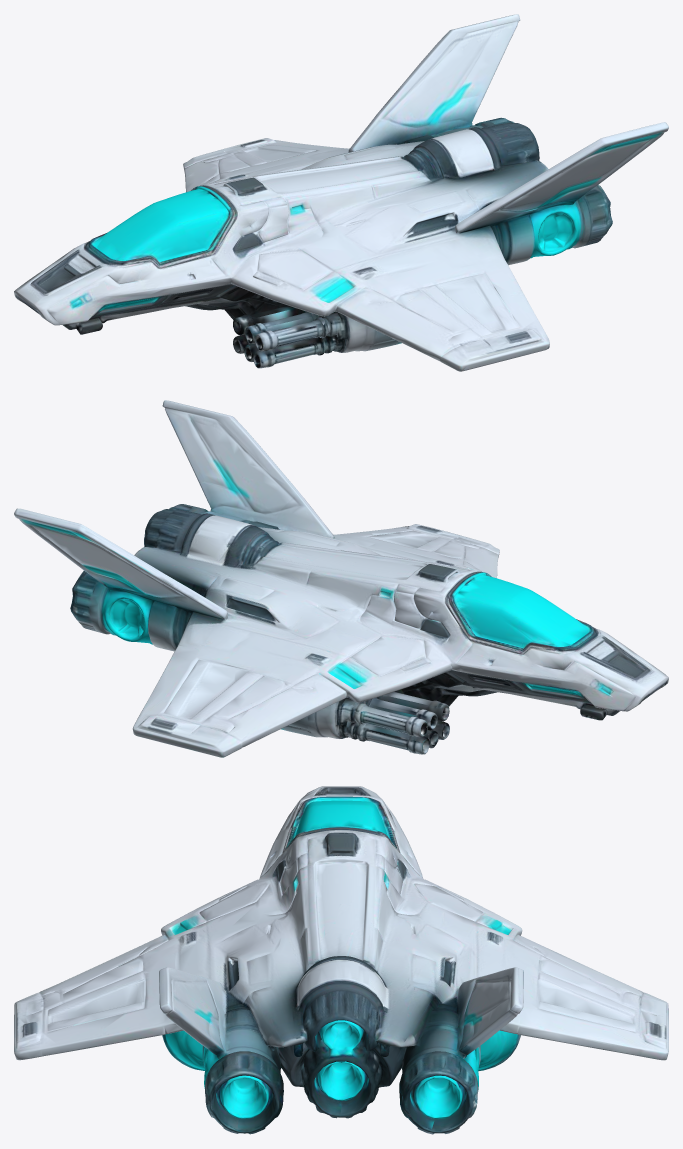
File: fighter.glb
The picture shows the model from 3 angles, top to bottom: view 1: azimuth 30°, elevation 25°; view 2: azimuth 150°, elevation 25°; view 3: azimuth 270°, elevation 25°; orthographic projection. The views are drawn at different scales.
Parts seen in each view (by area): view 1: node_0; view 2: node_0; view 3: node_0.
Boxes of the visible parts, left/top/right/bottom form: node_0: left=14, top=14, right=668, bottom=371; node_0: left=14, top=400, right=668, bottom=757; node_0: left=14, top=786, right=668, bottom=1134.
Bounding box in the file's own units: 1.06 × 0.3052 × 0.8947.
Materials: 1 (1 with a texture image).
